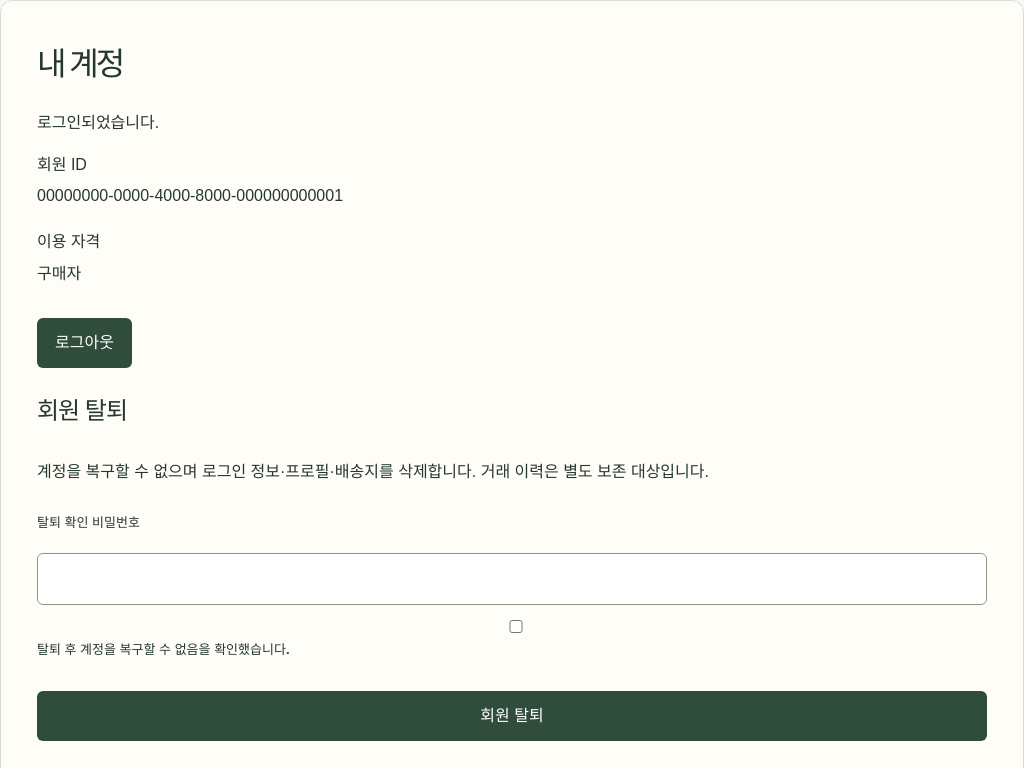
Scenario: 탈퇴는 비밀번호와 확인 체크 후 한 번 제출하고 입력을 화면에서 제거한다
Type "private-password" into the password field labelled "탈퇴 확인 비밀번호" at (512, 579), box [37, 553, 987, 605]
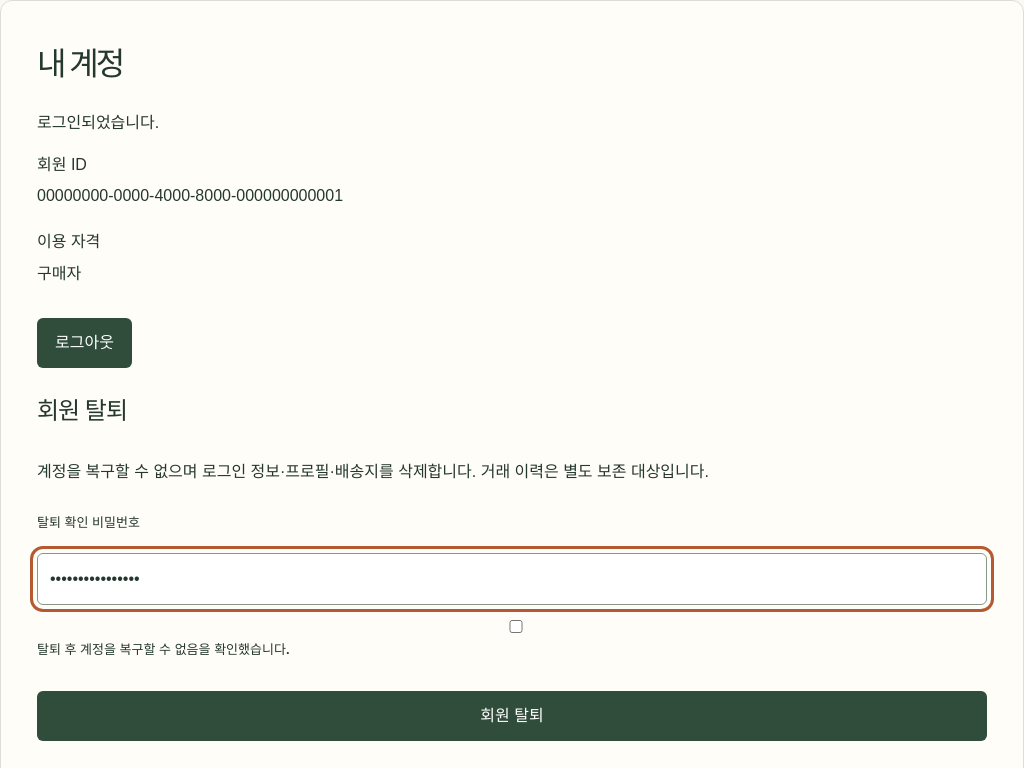
Click the checkbox labelled "탈퇴 후 계정을 복구할 수 없음을 확인했습니다." at (516, 626), box [41, 620, 991, 633]
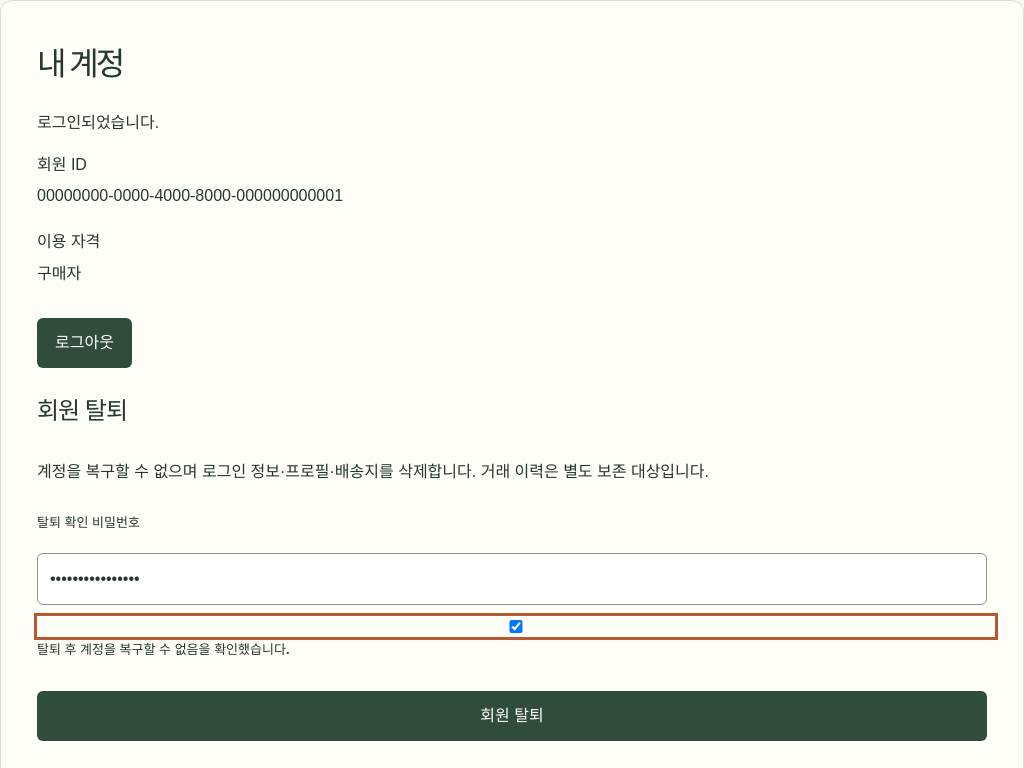
Click the button "회원 탈퇴" at (512, 716), box [37, 691, 987, 741]
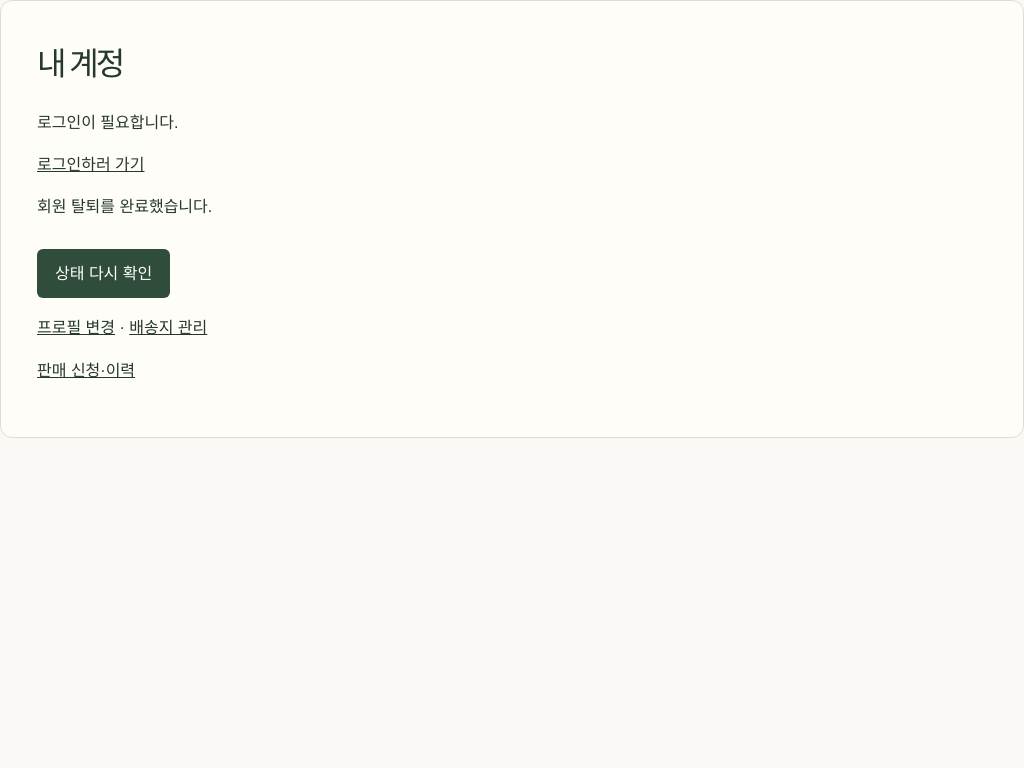
Expected: the text "회원 탈퇴를 완료했습니다." is shown, [37, 198, 212, 216]
Expected: the label labelled "탈퇴 확인 비밀번호" is gone
